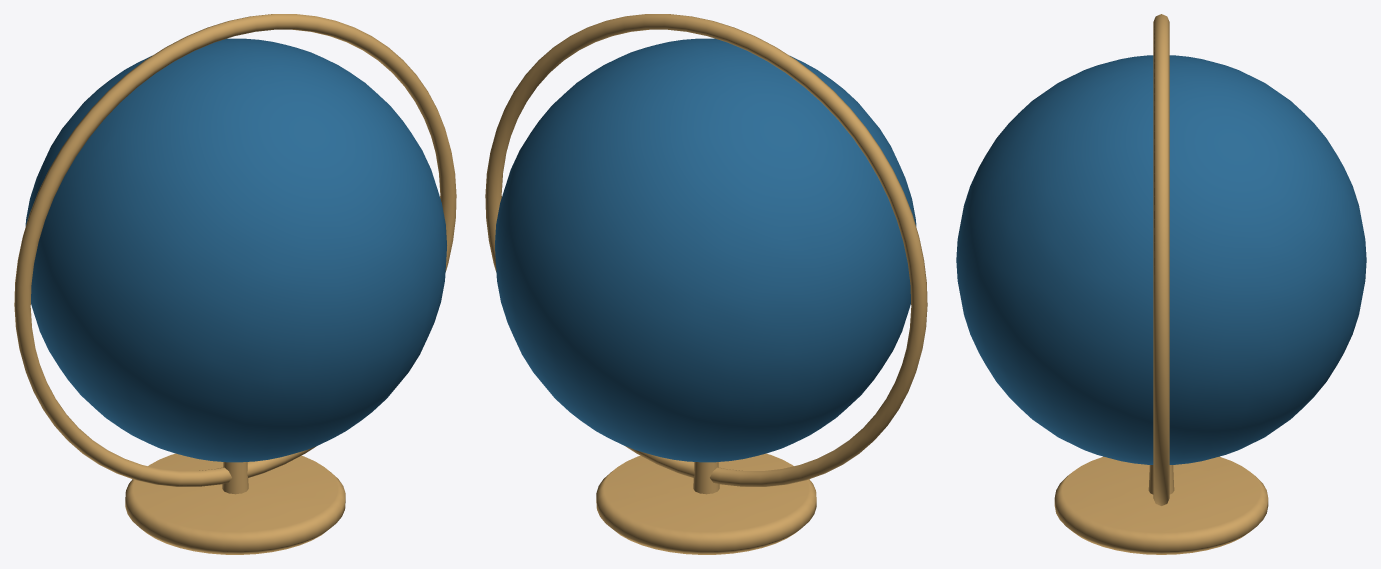
3 renders of one model, left to right at view 1: azimuth 30°, elevation 25°; view 2: azimuth 150°, elevation 25°; view 3: azimuth 270°, elevation 25°, orthographic. The views are drawn at different scales.
Bounding box in the file's own units: 0.5999 × 0.64 × 0.5.
